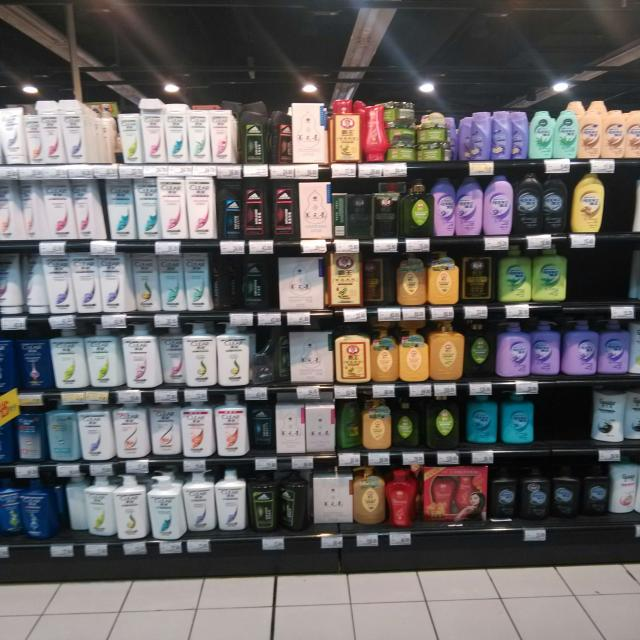void: (570, 244, 640, 304), (538, 387, 589, 446), (612, 170, 640, 231)
